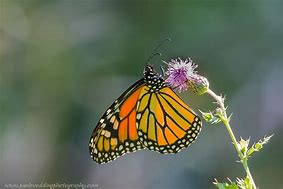insect: (87, 62, 202, 164)
